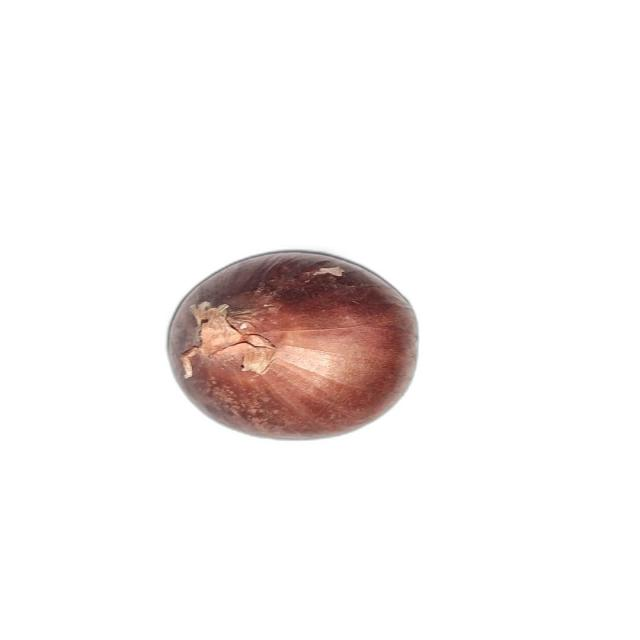onion: (167, 251, 419, 441)
